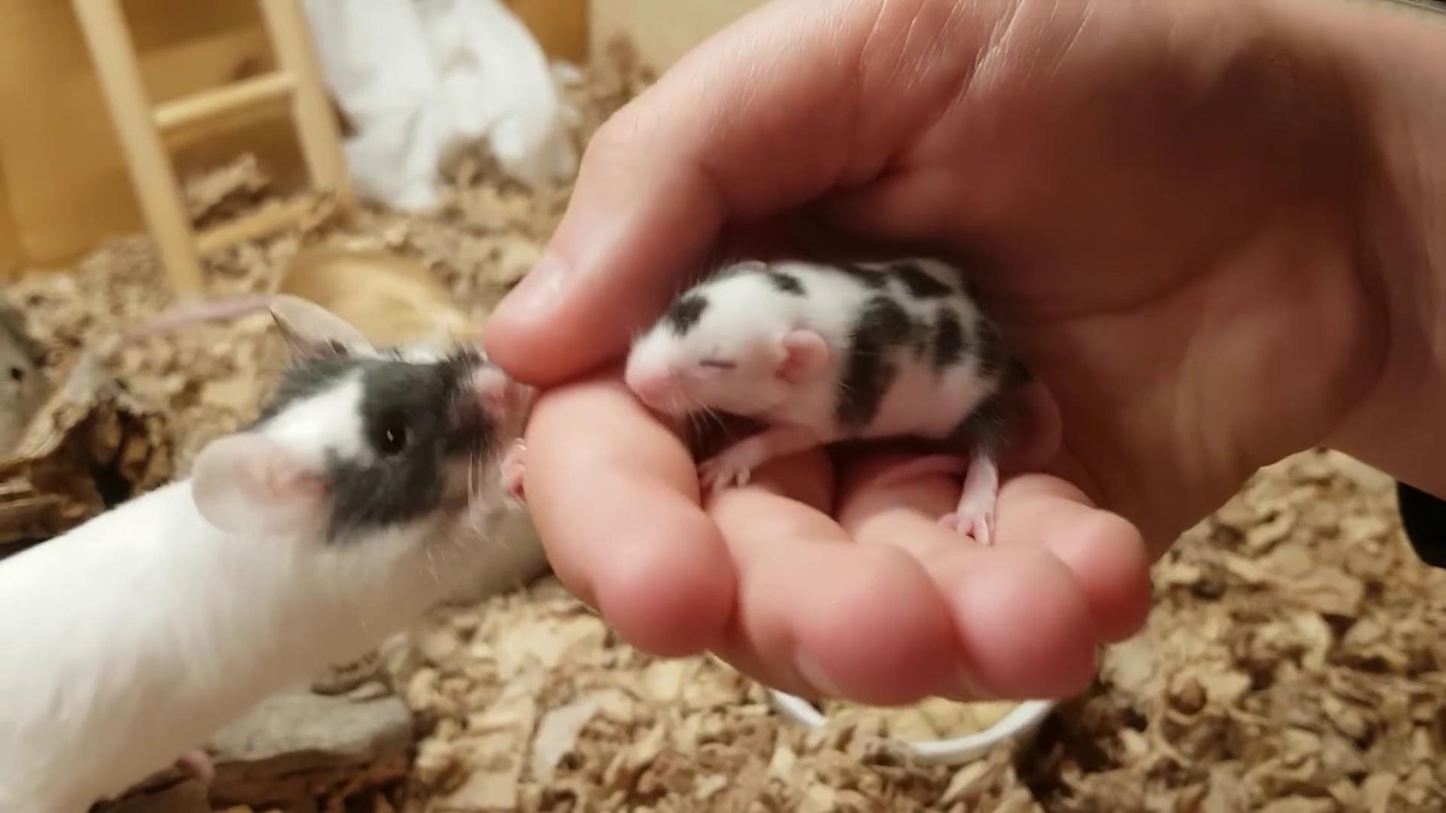rat: (0, 296, 530, 813), (624, 259, 1057, 548)
